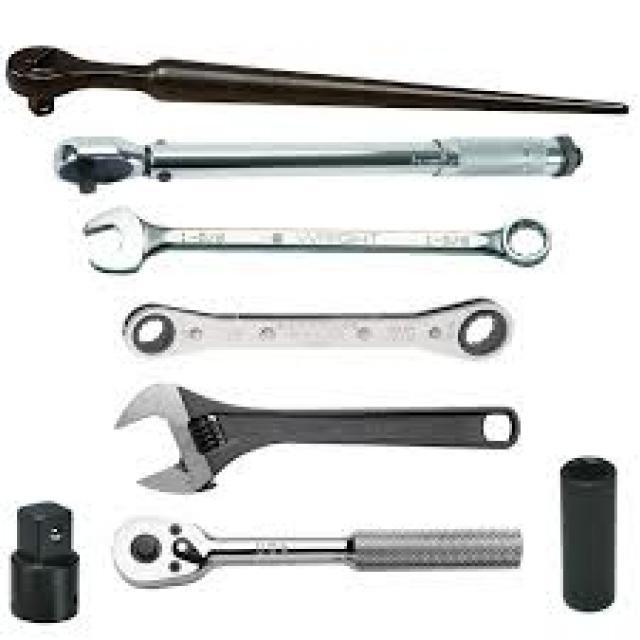wrench: (0, 37, 632, 132), (86, 377, 538, 497), (82, 196, 564, 278), (94, 514, 547, 598), (23, 133, 593, 199), (103, 298, 524, 370)
